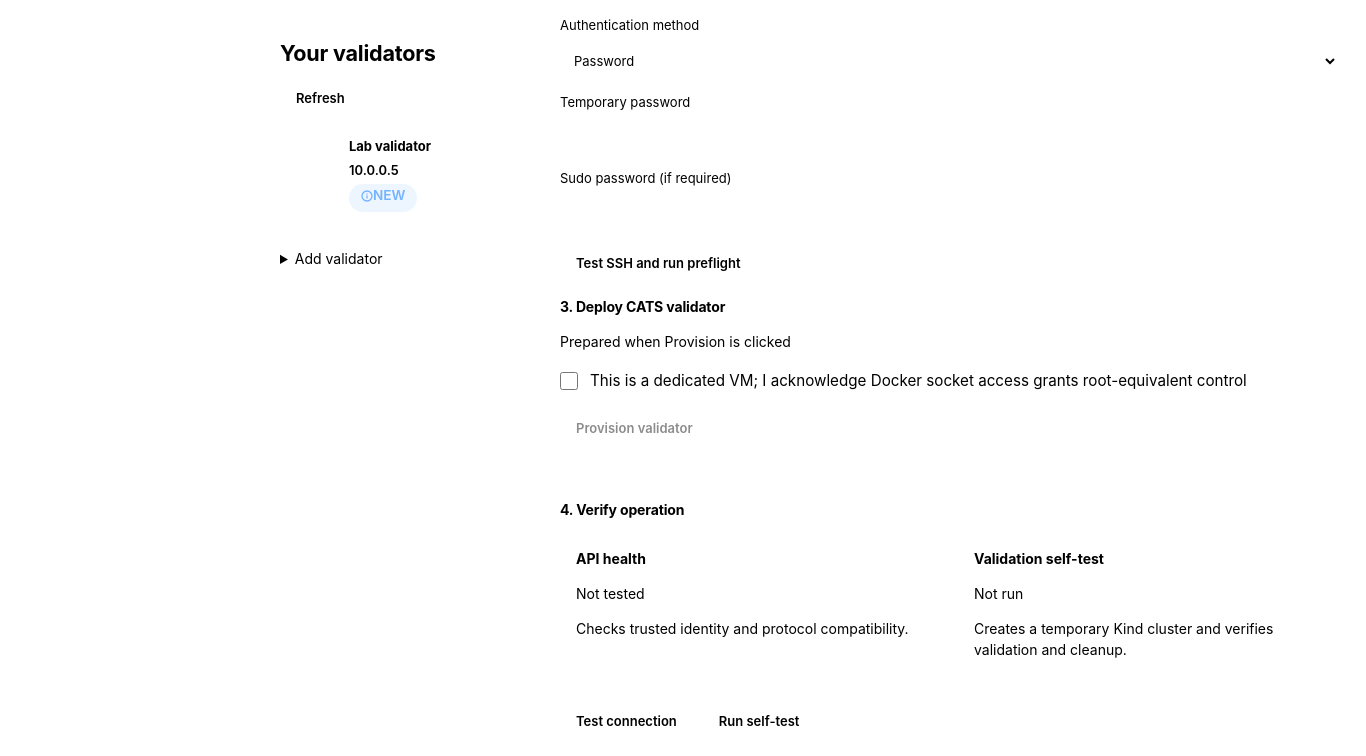
Scenario: managed validators › allows Provision to perform preflight and prepare missing payload asynchronously
(page scrolled)
Click the checkbox named "This is a dedicated VM; I acknowledge Docker socket access grants root-equivalent control": click(569, 381) [560,372,578,390]
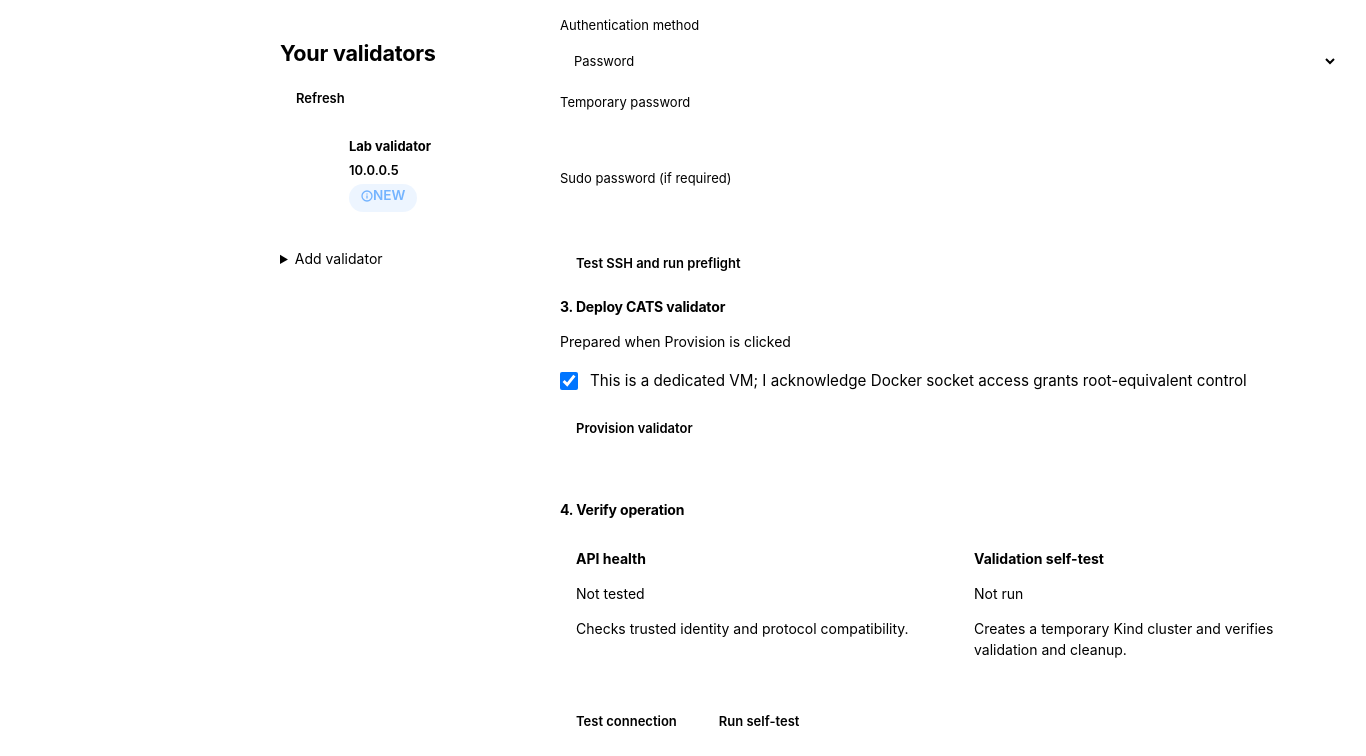
Check: the text "Prepared when Provision is clicked" is shown, box [560,333,791,350]
Check: the button "Provision validator" is enabled, box [560,411,709,447]
